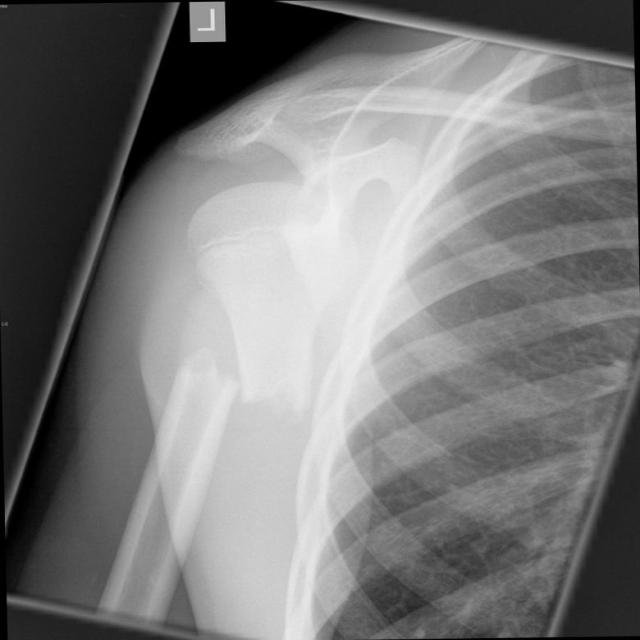Transverse: (154, 319, 315, 442)
